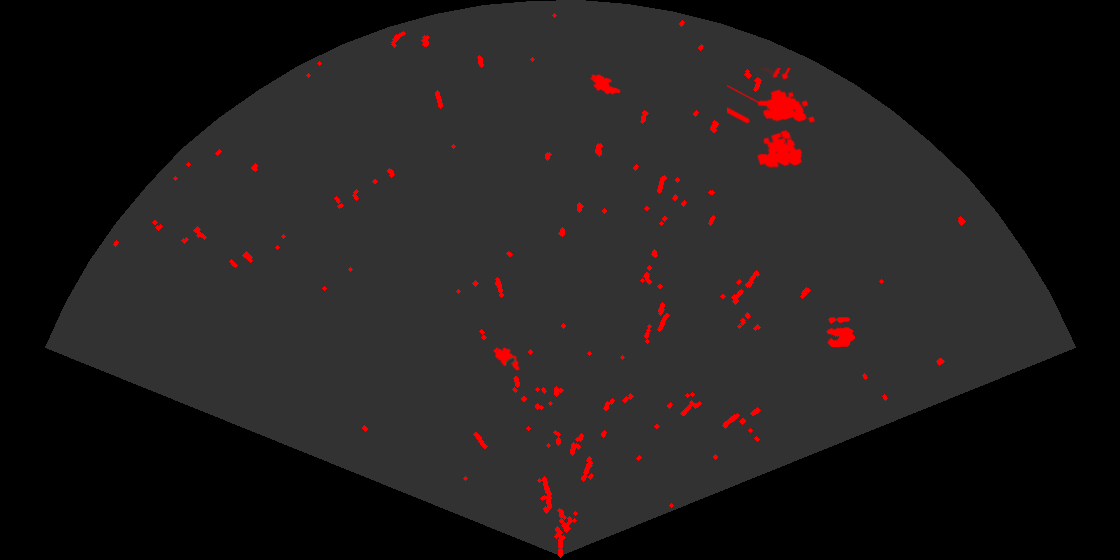AUV: (589, 73, 622, 96), (492, 346, 521, 372)
ball: (825, 316, 857, 349)
cage: (727, 68, 817, 170)
